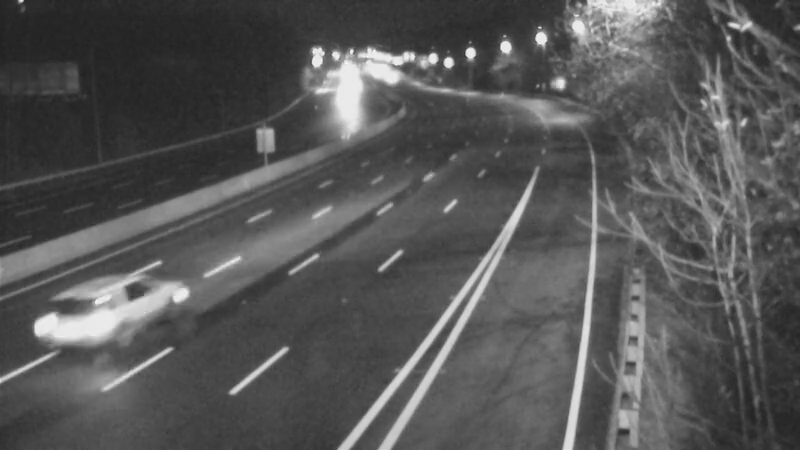vehicle: (57, 253, 167, 363), (367, 53, 417, 103)
